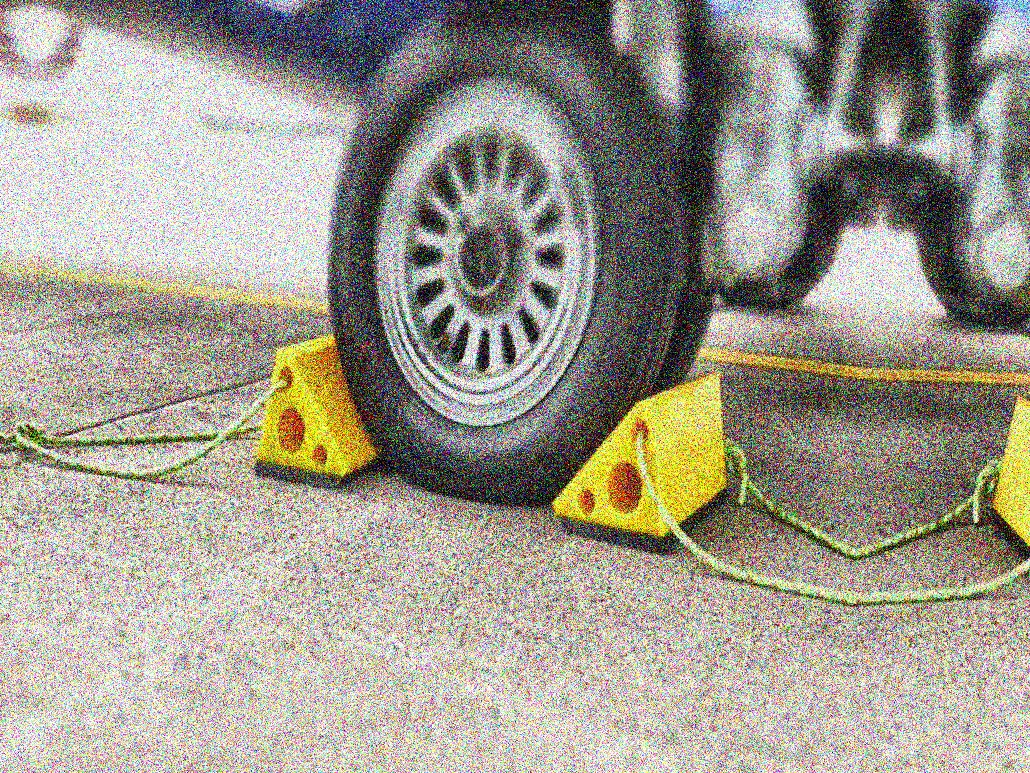chock: (546, 358, 735, 560), (251, 326, 396, 493)
wheel: (311, 0, 695, 515)
